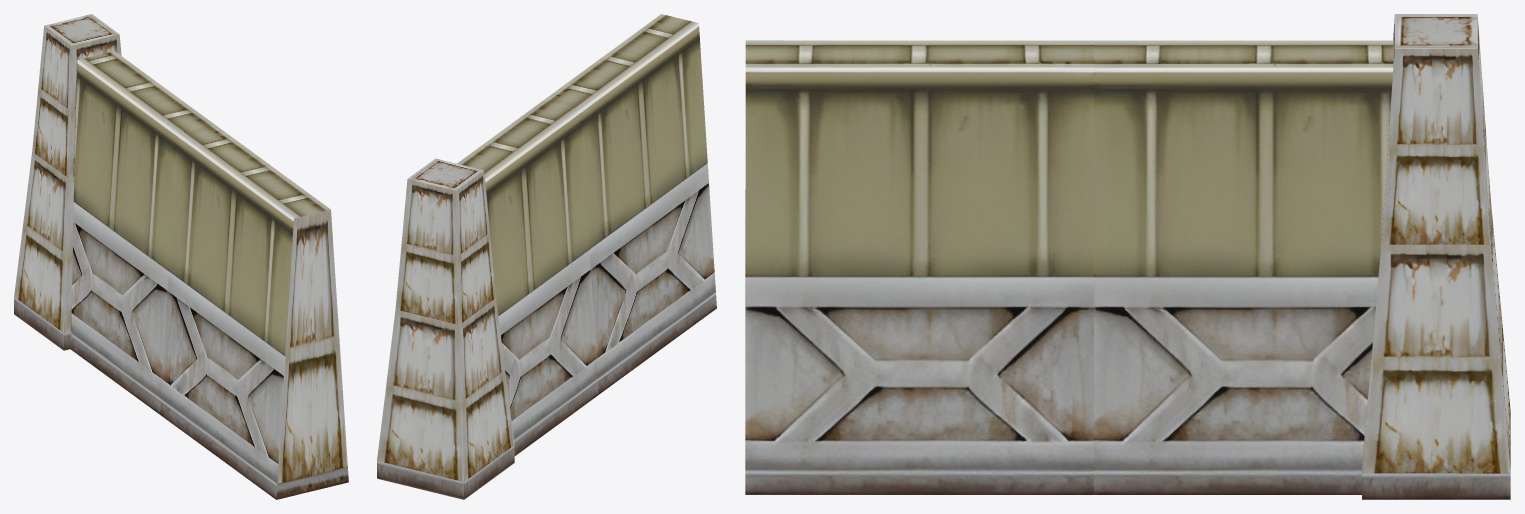
The model's file is d_heavywall_hdtex.glb.
3 renders of one model, left to right at view 1: azimuth 30°, elevation 25°; view 2: azimuth 150°, elevation 25°; view 3: azimuth 270°, elevation 25°, orthographic. The views are drawn at different scales.
Visible parts, largest first — view 1: D_HeavyWall; view 2: D_HeavyWall; view 3: D_HeavyWall.
Part boxes in pixels (box(x1,y1,x2,y2)): D_HeavyWall: box(14, 14, 348, 499); D_HeavyWall: box(377, 14, 716, 499); D_HeavyWall: box(745, 14, 1510, 499).
Size of the model in its own units: 5.5 by 17.86 by 28.34.
1 material, 1 textured.
